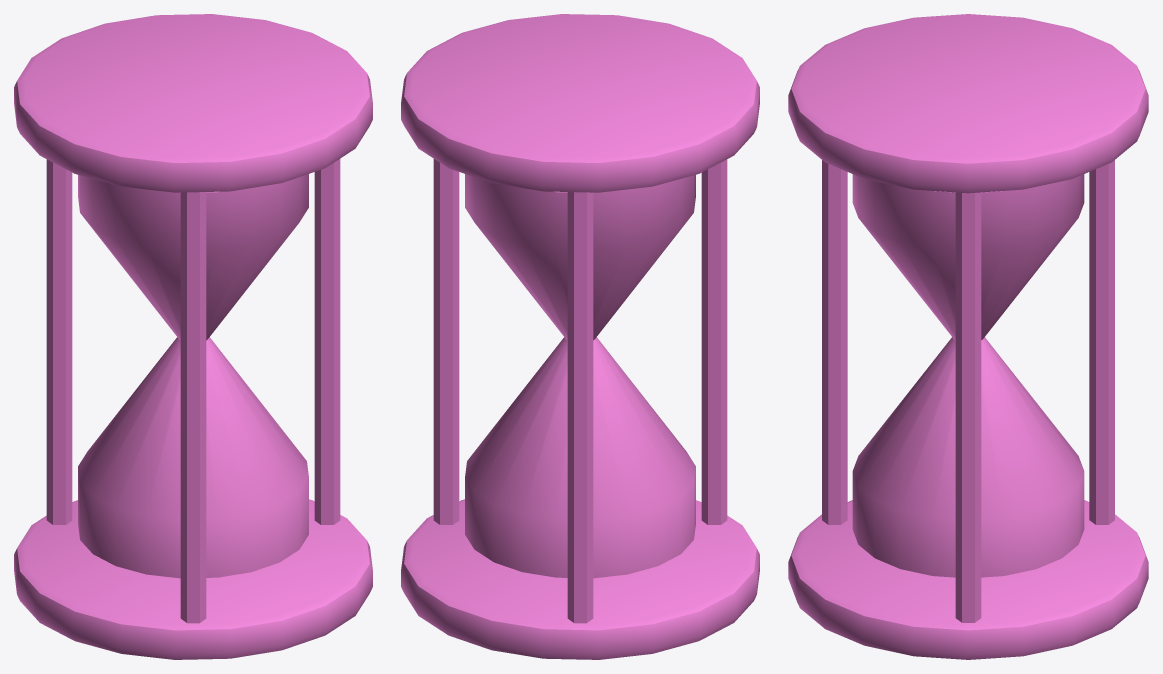
File: Item_Hourglass.fbx
3 renders of one model, left to right at view 1: azimuth 30°, elevation 25°; view 2: azimuth 150°, elevation 25°; view 3: azimuth 270°, elevation 25°, orthographic.
Visible parts, largest first — view 1: Hourglass; view 2: Hourglass; view 3: Hourglass.
Part boxes in pixels (left/top/right/bottom): Hourglass: left=14, top=14, right=372, bottom=659; Hourglass: left=401, top=14, right=759, bottom=659; Hourglass: left=788, top=14, right=1148, bottom=659.
Size of the model in its own units: 2.8 by 4.3 by 2.8.
Materials: 1 (1 with a texture image).
